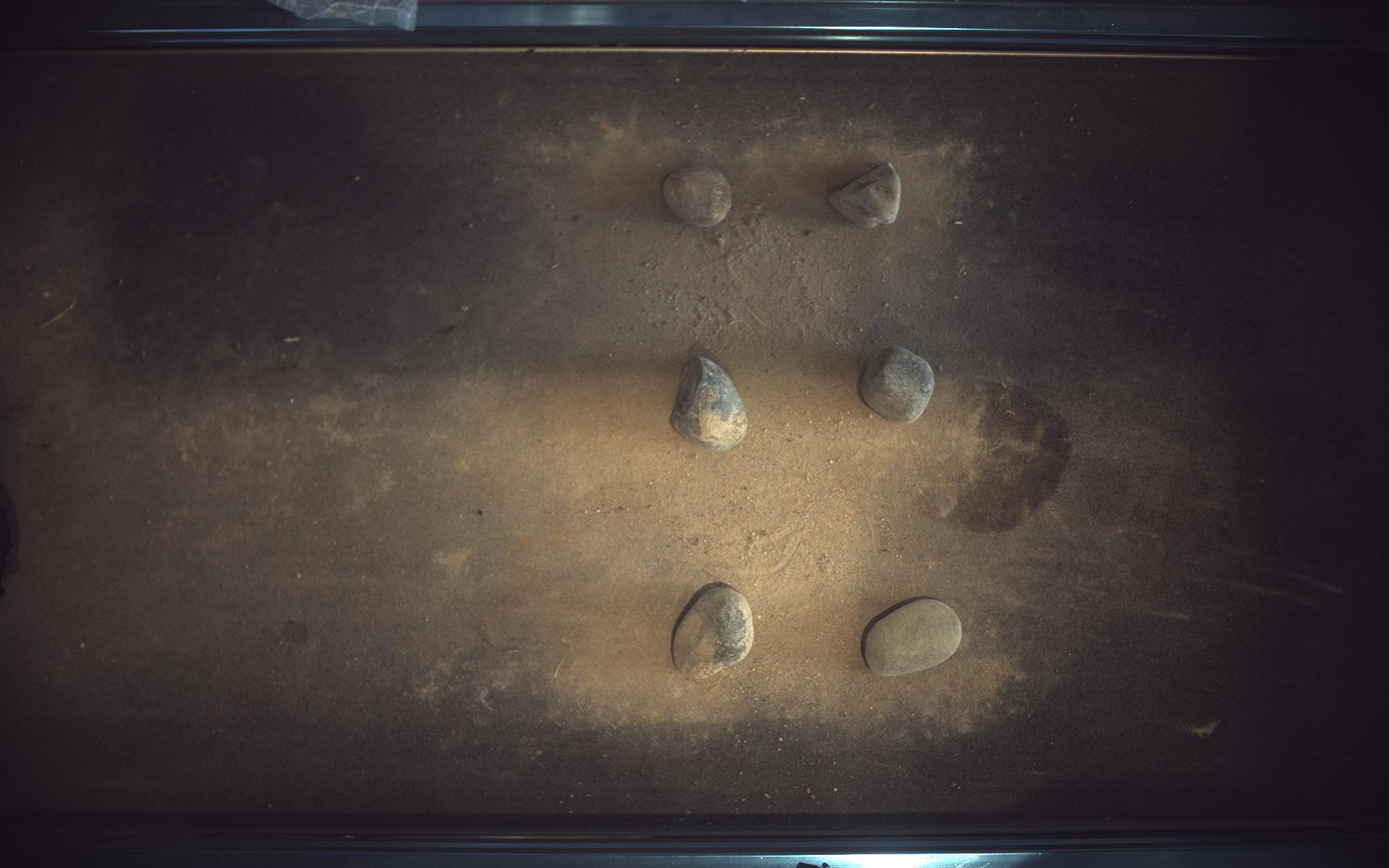stone: (673, 583, 755, 680), (865, 599, 964, 677), (671, 354, 749, 451), (862, 346, 936, 423), (830, 161, 903, 227), (663, 166, 733, 226)
